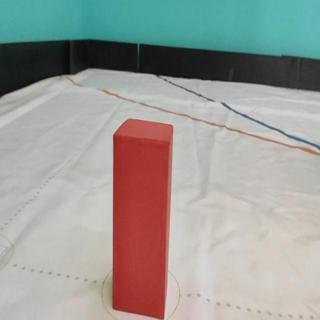redbox: (111, 117, 173, 320)
